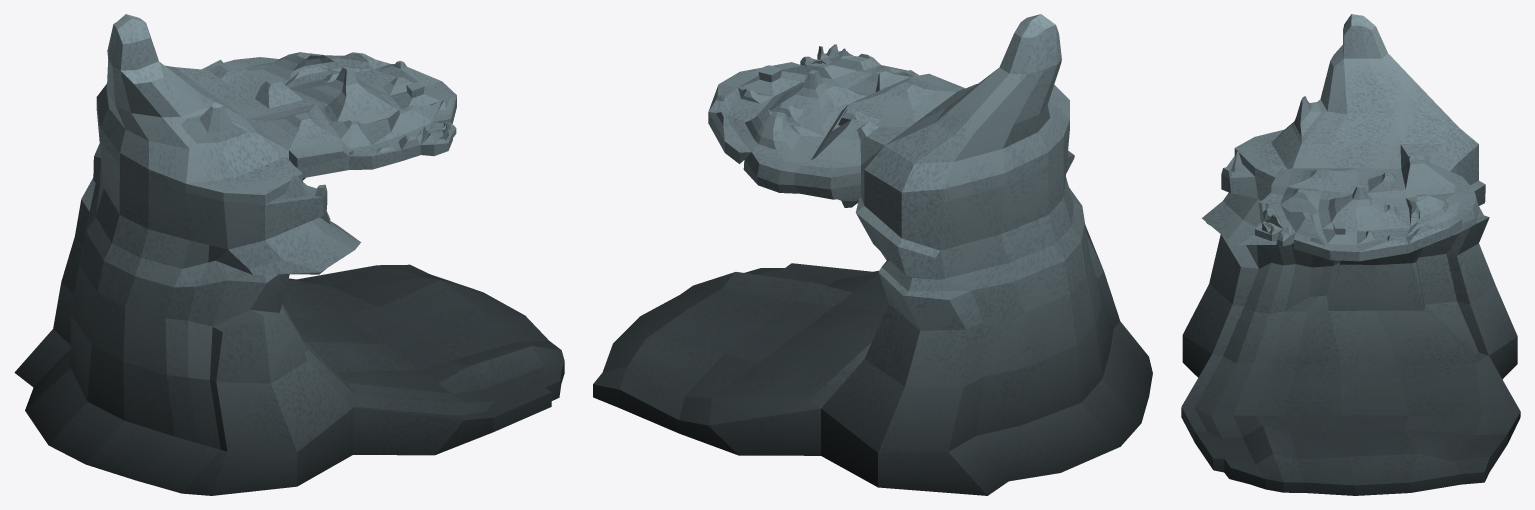
Rendered from ddd.fbx.
3 renders of one model, left to right at view 1: azimuth 30°, elevation 25°; view 2: azimuth 150°, elevation 25°; view 3: azimuth 270°, elevation 25°, orthographic. The views are drawn at different scales.
Parts seen in each view (by area): view 1: pCube1.004_Baked; view 2: pCube1.004_Baked; view 3: pCube1.004_Baked.
Part boxes in pixels (bbox=[...]): pCube1.004_Baked: bbox=[14, 14, 564, 495]; pCube1.004_Baked: bbox=[593, 14, 1152, 495]; pCube1.004_Baked: bbox=[1181, 14, 1520, 495].
Size of the model in its own units: 76.89 by 63.04 by 59.11.
